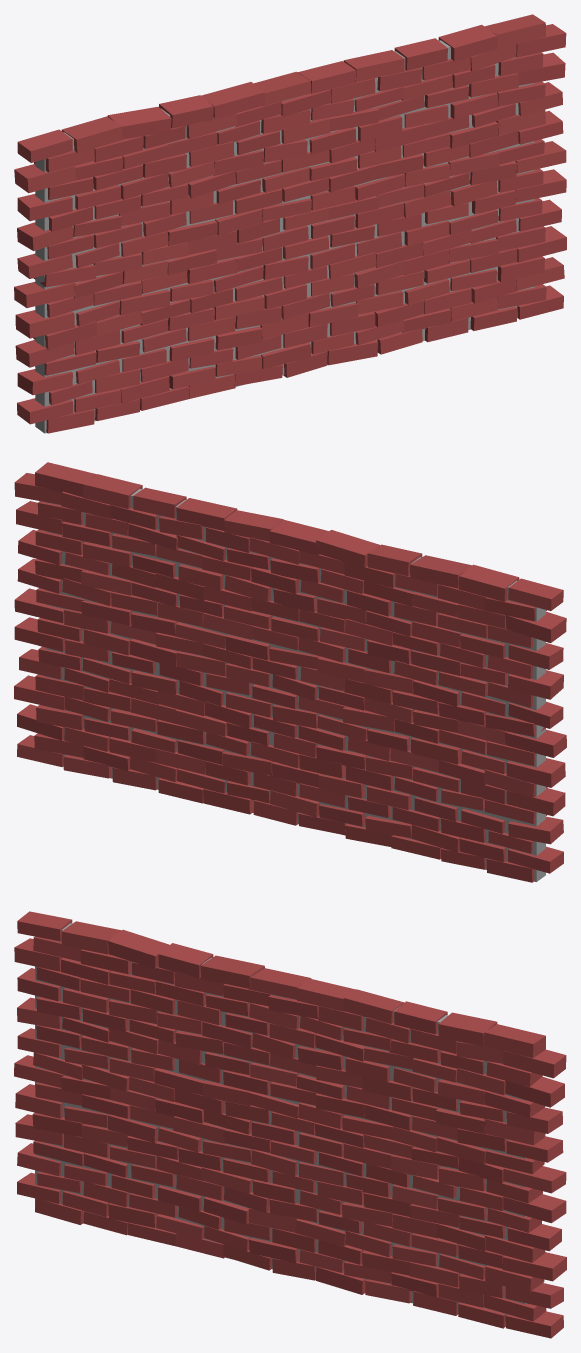
File: Brick wall.fbx
3 views of the same model, one above another, from view 1: azimuth 30°, elevation 25°; view 2: azimuth 150°, elevation 25°; view 3: azimuth 330°, elevation 25° (orthographic).
Parts seen in each view (by area): view 1: pCube221, pCube188, pCube213, pCube212, pCube217, pCube183, pCube184, pCube204, pCube206, pCube203, pCube181, pCube52 (+209 smaller); view 2: pCube221, pCube188, pCube212, pCube183, pCube217, pCube213, pCube203, pCube204, pCube184, pCube181, pCube205, pCube52 (+209 smaller); view 3: pCube221, pCube213, pCube183, pCube188, pCube217, pCube204, pCube212, pCube206, pCube55, pCube203, pCube205, pCube185 (+209 smaller).
Boxes of the visible parts, box(x1,y1,x2,y2) form: pCube221: box(35, 40, 534, 433); pCube188: box(201, 82, 265, 118); pCube213: box(107, 106, 171, 139); pCube212: box(61, 116, 122, 153); pCube217: box(438, 24, 497, 61); pCube183: box(484, 14, 545, 48); pCube184: box(17, 129, 72, 162); pCube204: box(343, 50, 404, 81); pCube206: box(159, 95, 213, 128); pCube203: box(254, 71, 311, 105); pCube181: box(14, 164, 75, 193); pCube52: box(15, 310, 74, 338); pCube221: box(46, 488, 545, 881); pCube188: box(315, 530, 379, 567); pCube212: box(458, 564, 519, 601); pCube183: box(35, 462, 96, 497); pCube217: box(83, 474, 142, 508); pCube213: box(410, 555, 471, 588); pCube203: box(269, 519, 328, 555); pCube204: box(176, 498, 237, 530); pCube184: box(508, 578, 563, 610); pCube181: box(505, 611, 566, 643); pCube205: box(224, 510, 283, 541); pCube52: box(506, 758, 565, 787); pCube221: box(35, 923, 526, 1325); pCube213: box(108, 929, 169, 968); pCube183: box(484, 1024, 545, 1057); pCube188: box(200, 955, 264, 988); pCube217: box(438, 1012, 497, 1046); pCube204: box(343, 989, 404, 1023); pCube212: box(61, 921, 121, 954); pCube206: box(158, 943, 213, 978); pCube55: box(502, 1252, 566, 1281); pCube203: box(248, 968, 311, 999); pCube205: box(297, 978, 355, 1011); pCube185: box(503, 1049, 566, 1078).
Size of the model in its own units: 33.24 by 17.19 by 1.75.
